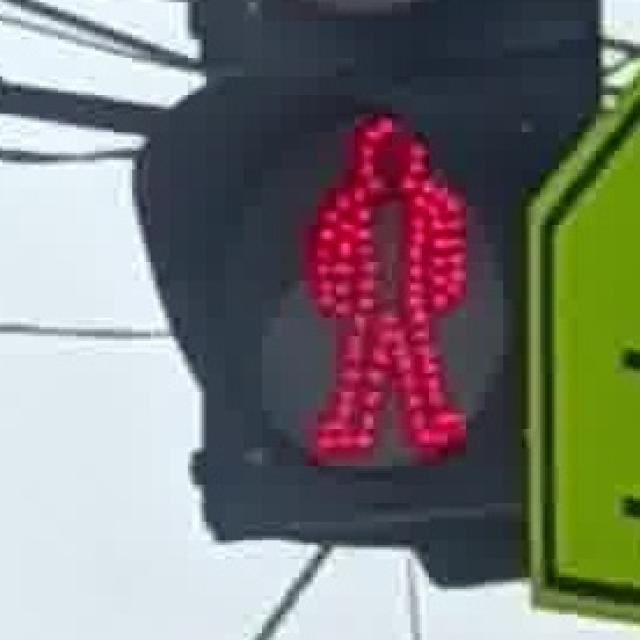red-crossing: (272, 95, 482, 482)
